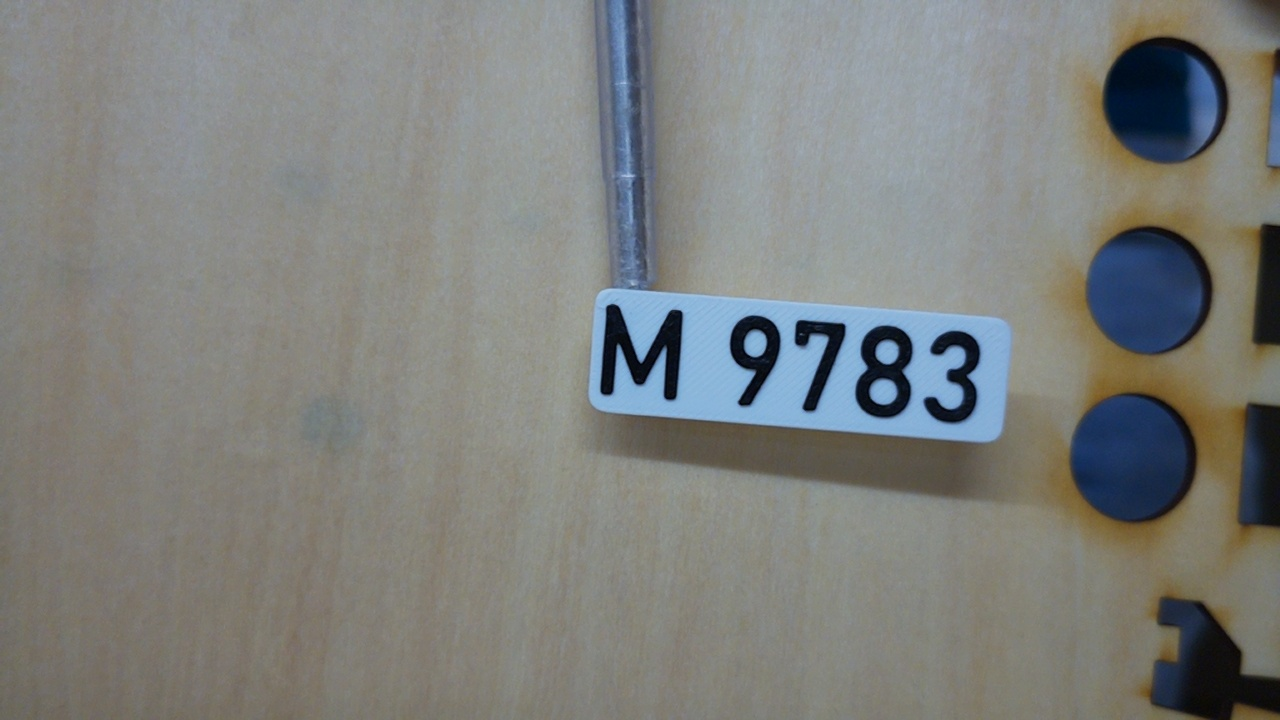license_plate: (586, 283, 1014, 450)
